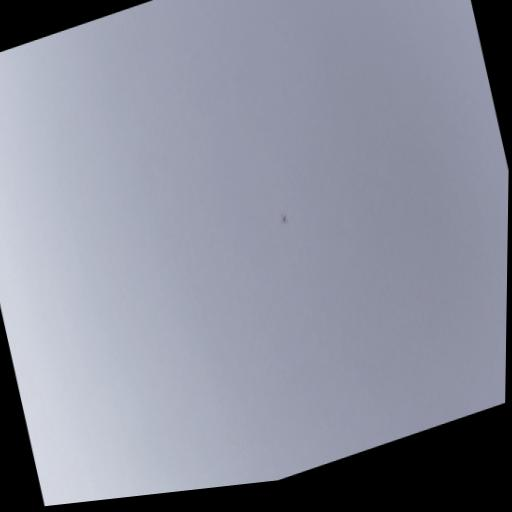drones: (277, 209, 292, 229)
